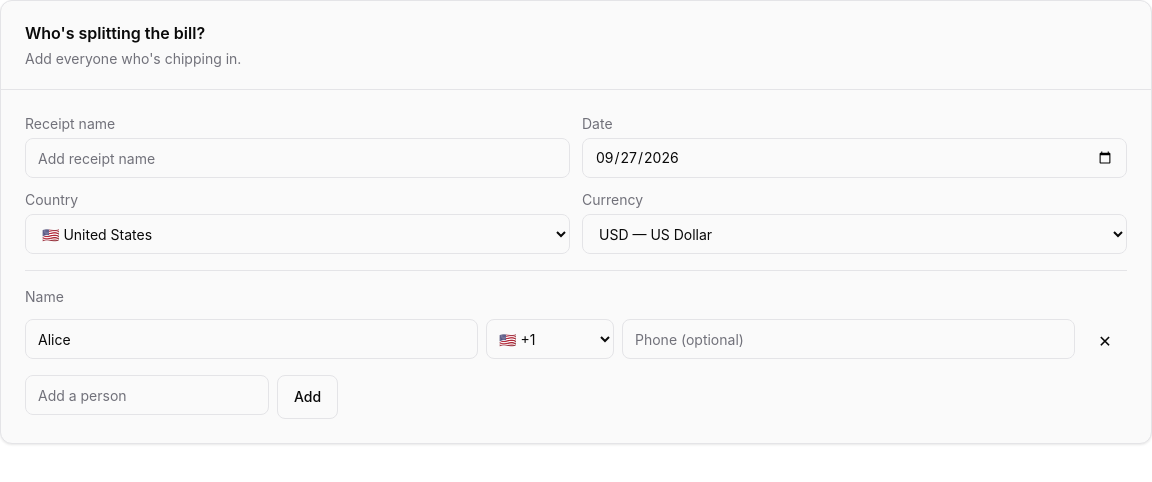
Test: PeopleManager › shows a duplicate error when the draft name matches an existing person
Type "alice" into the field named "New person name" at (147, 395), box [25,375,269,415]
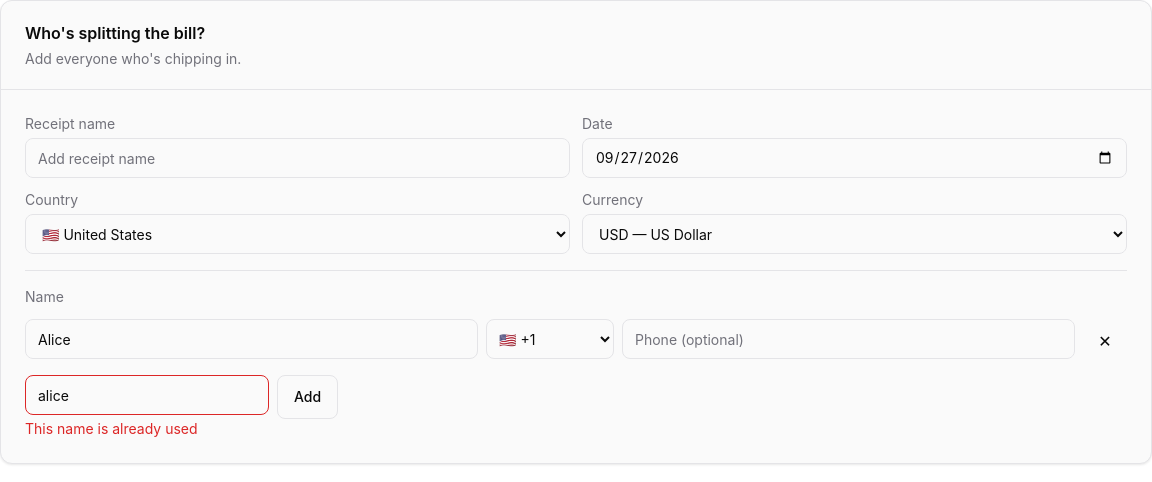
Now the message reads "This name is already used", box [25,420,198,437]
